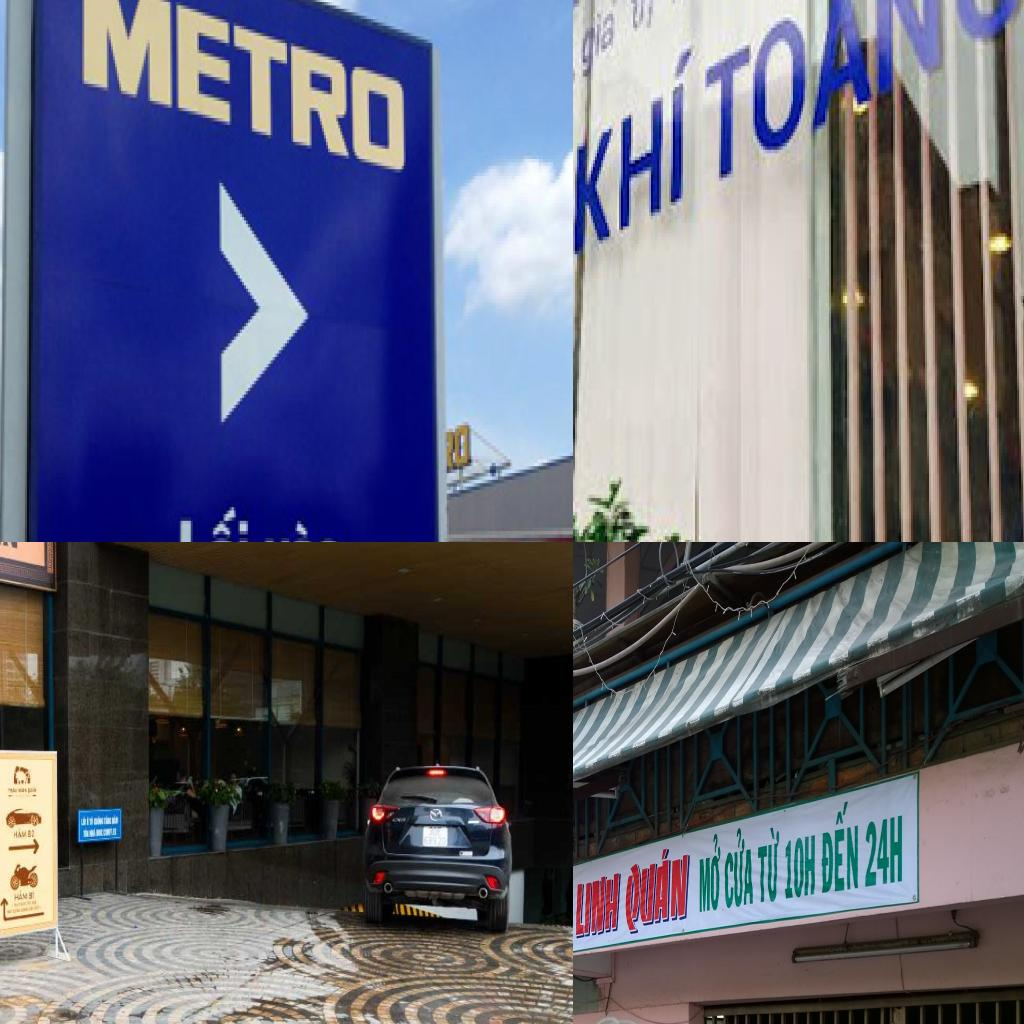text: (80, 0, 409, 183), (701, 0, 953, 202), (573, 27, 699, 275), (624, 843, 690, 933), (581, 0, 627, 87), (820, 797, 860, 896), (576, 871, 620, 937), (865, 813, 903, 889), (178, 503, 252, 542), (723, 824, 755, 911), (784, 832, 816, 900), (262, 517, 344, 542), (698, 832, 722, 914), (758, 825, 780, 905), (627, 0, 661, 45), (455, 422, 471, 476), (424, 836, 447, 846), (14, 890, 28, 904), (13, 827, 27, 840), (433, 826, 443, 837), (28, 830, 36, 839), (29, 891, 36, 900), (80, 818, 84, 827)
